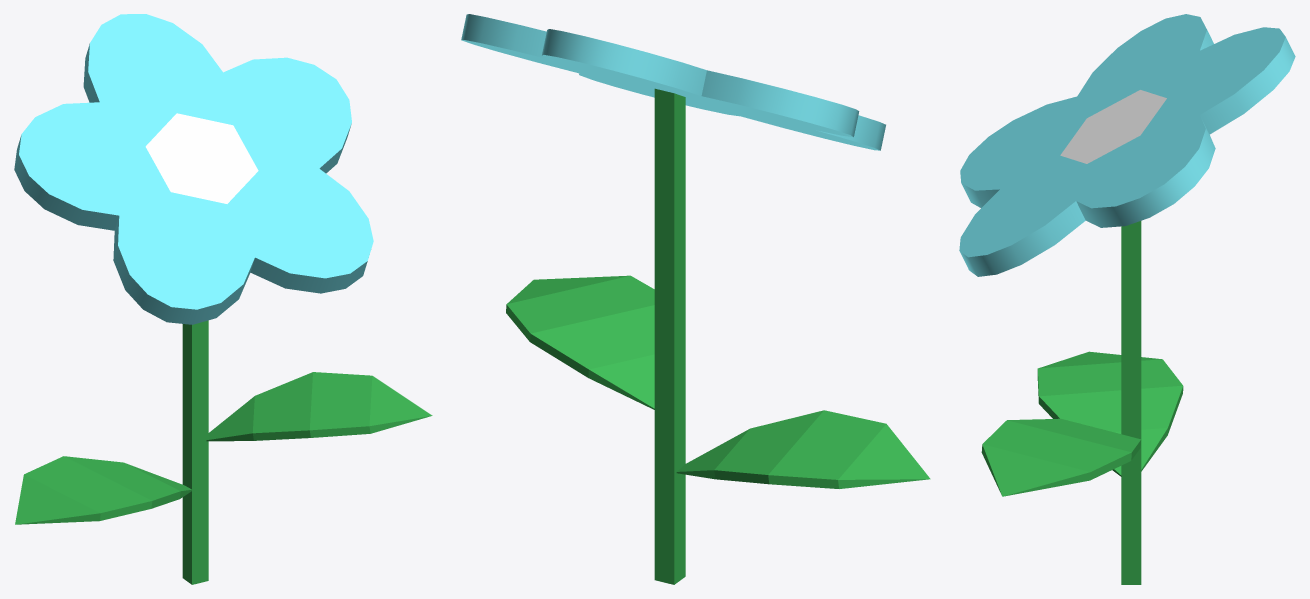
File: Flower_1x_BlueLight.FBX
3 renders of one model, left to right at view 1: azimuth 30°, elevation 25°; view 2: azimuth 150°, elevation 25°; view 3: azimuth 270°, elevation 25°, orthographic. The views are drawn at different scales.
Visible parts, largest first — view 1: Flower_1x_BlueLight; view 2: Flower_1x_BlueLight; view 3: Flower_1x_BlueLight.
Part boxes in pixels (box(x1,y1,x2,y2)): Flower_1x_BlueLight: box(14, 14, 432, 584); Flower_1x_BlueLight: box(461, 14, 930, 584); Flower_1x_BlueLight: box(959, 14, 1295, 584).
Size of the model in its own units: 30.92 by 40.17 by 22.55.
